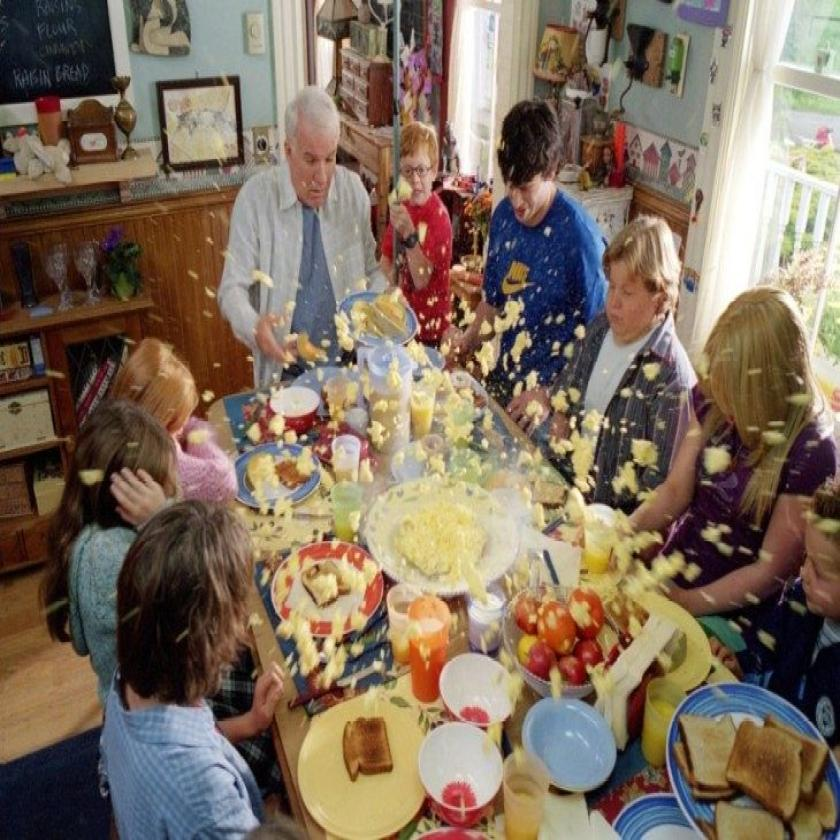Sin_casco: (485, 78, 571, 246), (597, 206, 686, 354), (276, 73, 350, 223), (391, 113, 445, 204)
